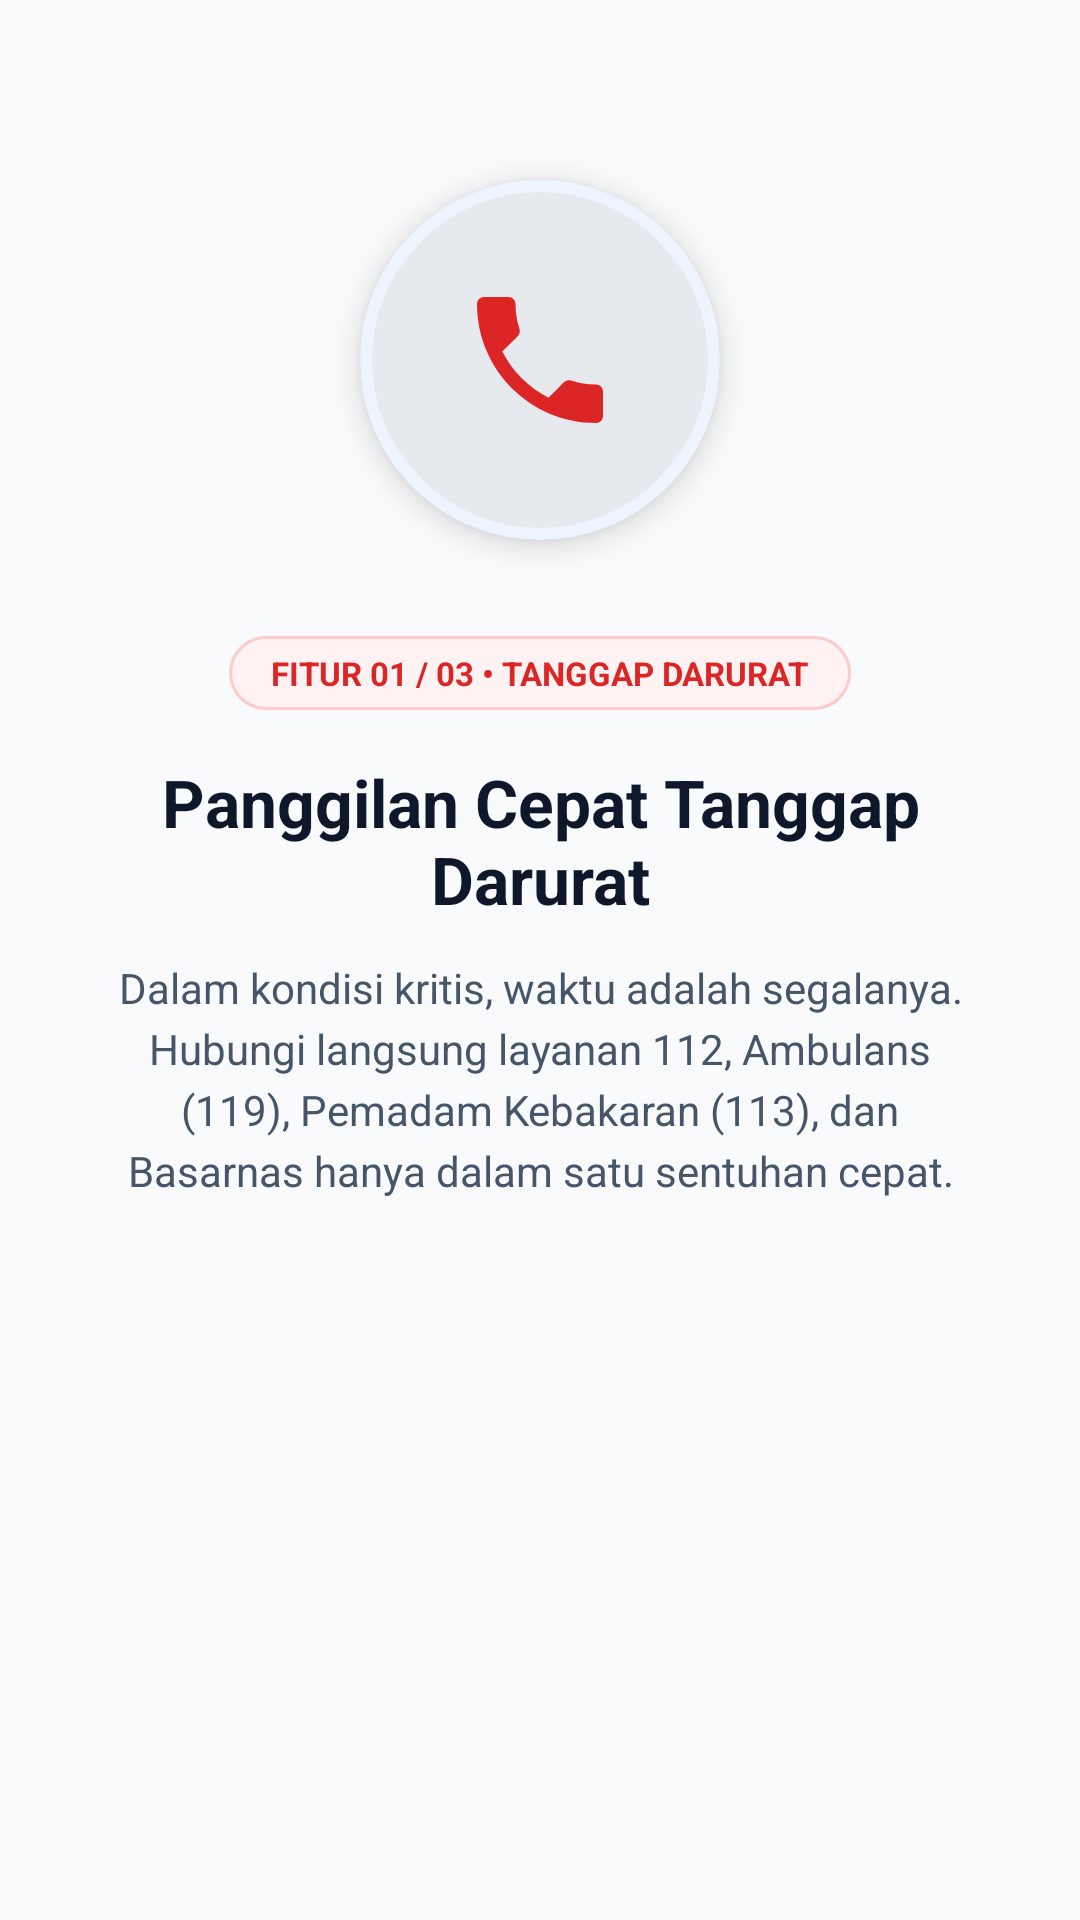

Locate icon controls on the screen. Image size 1080*1920, boxes as (x1, y1, x2, y2).
Tanggap Darurat: (477, 297, 603, 423)
